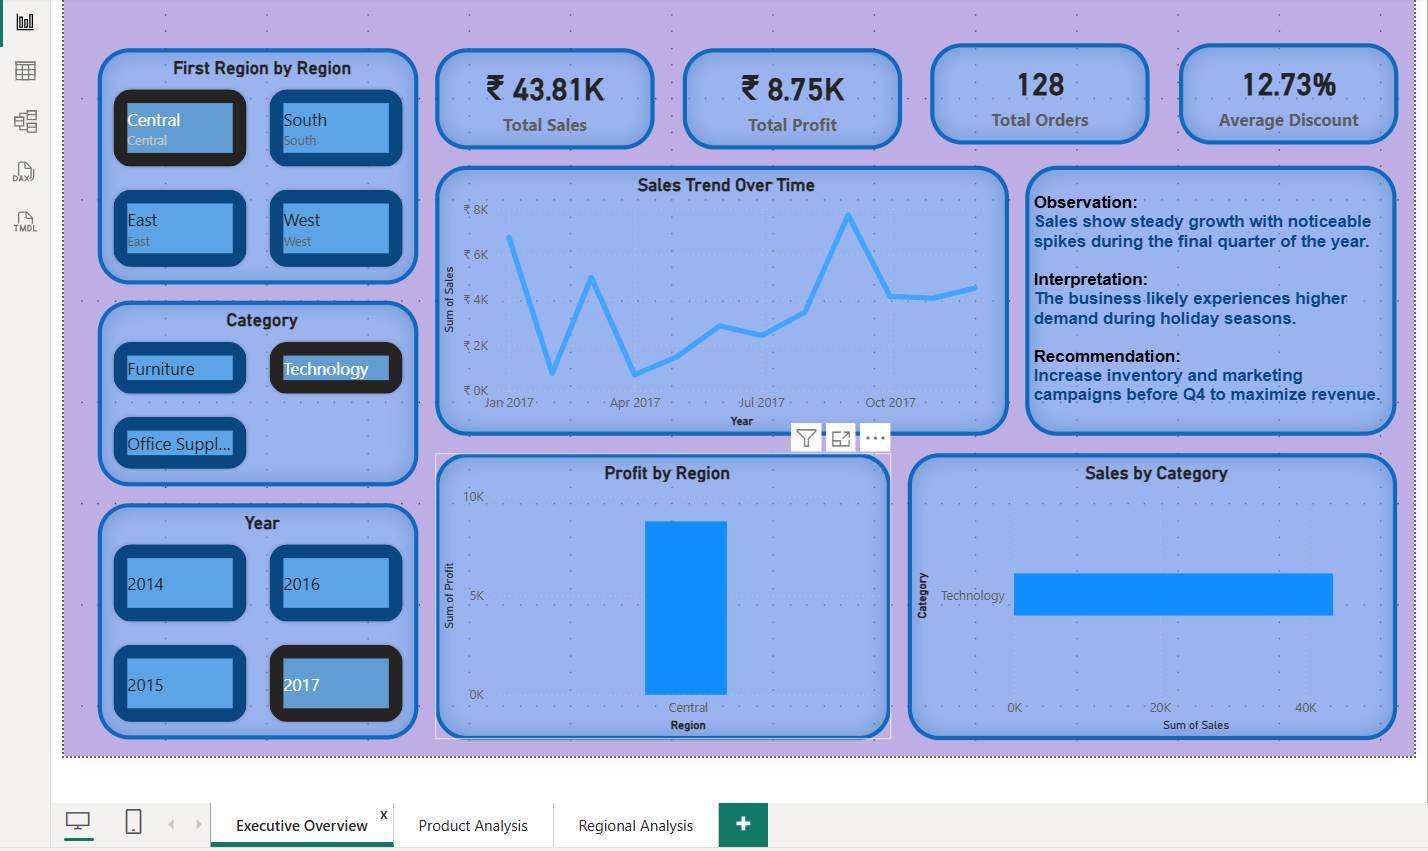

This screenshot's page, from the dashboard's own definition file:
{"tool":"powerbi","page":{"name":"Executive Overview","canvas":[1280,720],"ordinal":0},"visuals":[{"type":"card","title":"Total Sales","fields":{"Values":["Sum(SuperstoreCleaned.Sales)"]},"box":[352,48,208,96],"z":0},{"type":"card","fields":{"Values":["Sum(SuperstoreCleaned.Profit)"]},"box":[586.9,48,208,96],"z":1000},{"type":"card","fields":{"Values":["CountNonNull(SuperstoreCleaned.Order ID)"]},"box":[821.8,44,208,96],"z":2000},{"type":"card","fields":{"Values":["Avg(SuperstoreCleaned.Discount)"]},"box":[1056.8,44,208,96],"z":3000},{"type":"lineChart","title":"Sales Trend Over Time","fields":{"Y":["Sum(SuperstoreCleaned.Sales)"],"Category":["SuperstoreCleaned.Order Date.Variation.Date Hierarchy.Year","SuperstoreCleaned.Order Date.Variation.Date Hierarchy.Month"]},"box":[352,160,544,256],"z":4000},{"type":"textbox","box":[912,160,352,256],"z":5000},{"type":"clusteredBarChart","title":"Sales by Category","fields":{"Category":["SuperstoreCleaned.Category"],"Y":["Sum(SuperstoreCleaned.Sales)"]},"box":[800,432,464,272],"z":6000},{"type":"clusteredColumnChart","title":"Profit by Region","fields":{"Category":["SuperstoreCleaned.Region"],"Y":["Sum(SuperstoreCleaned.Profit)"]},"box":[352,432,432,272],"z":7000},{"type":"advancedSlicerVisual","fields":{"Label":["Min(SuperstoreCleaned.Region)"],"Values":["SuperstoreCleaned.Region"]},"box":[32,48,304,224],"z":8000},{"type":"advancedSlicerVisual","fields":{"Values":["SuperstoreCleaned.Category"]},"box":[32,288,304,176],"z":9000},{"type":"advancedSlicerVisual","fields":{"Values":["SuperstoreCleaned.Year"]},"box":[32,480,304,224],"z":10000}]}

Visuals, with their boxes in screenshot pixels (x1, y1, x2, y2):
"Total Sales" card: 433/43/654/145
card - Sum(SuperstoreCleaned.Profit): 682/43/903/145
card - CountNonNull(SuperstoreCleaned.Order ID): 932/39/1152/141
card - Avg(SuperstoreCleaned.Discount): 1181/39/1402/141
"Sales Trend Over Time" lineChart: 433/162/1010/434
textbox: 1027/162/1401/434
"Sales by Category" clusteredBarChart: 908/451/1401/740
"Profit by Region" clusteredColumnChart: 433/451/891/740
advancedSlicerVisual - Min(SuperstoreCleaned.Region) x SuperstoreCleaned.Region: 93/43/416/281
advancedSlicerVisual - SuperstoreCleaned.Category: 93/298/416/485
advancedSlicerVisual - SuperstoreCleaned.Year: 93/502/416/740
